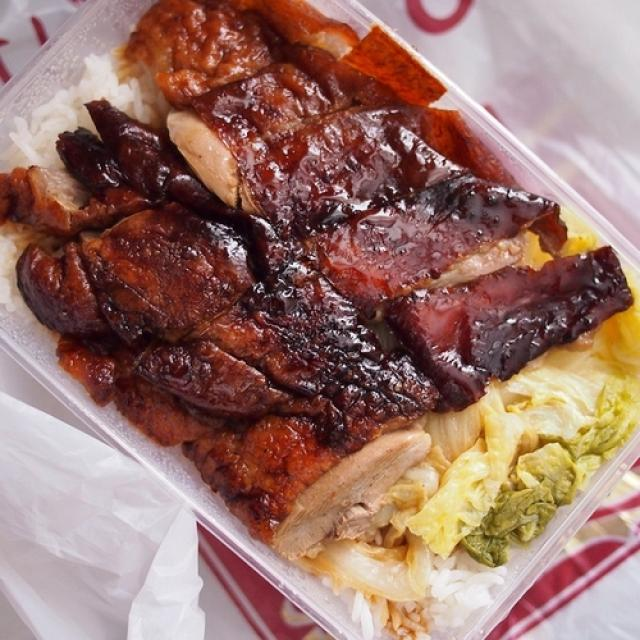米饭主食: (18, 20, 627, 621)
